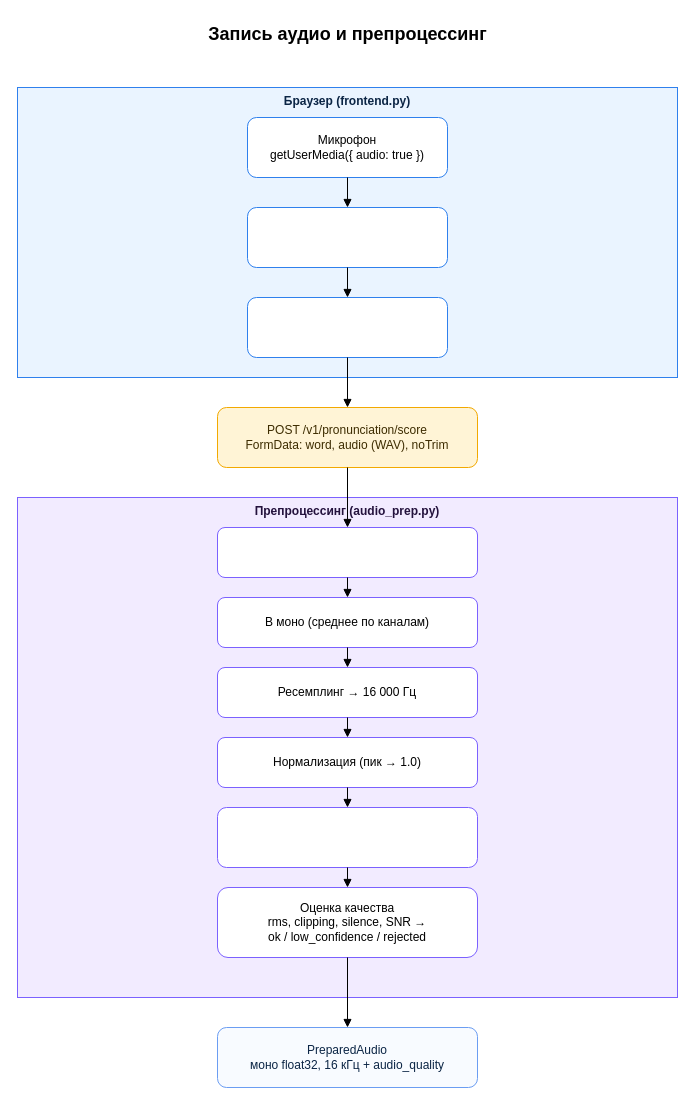
The diagram is 695 pixels wide and 1105 high, and some of its shapes have lost their labels. Each missing label, with the centre of its shape:
AudioContext + ScriptProcessor накопление Float32 чанков: point 347,237
encodeWav() 16-бит PCM WAV, моно (опц. обрезка по мс): point 347,327
Декодирование (soundfile) → float32: point 347,552
Обрезка тишины по энергии (RMS, кадры 20 мс) — если не noTrim: point 347,837
